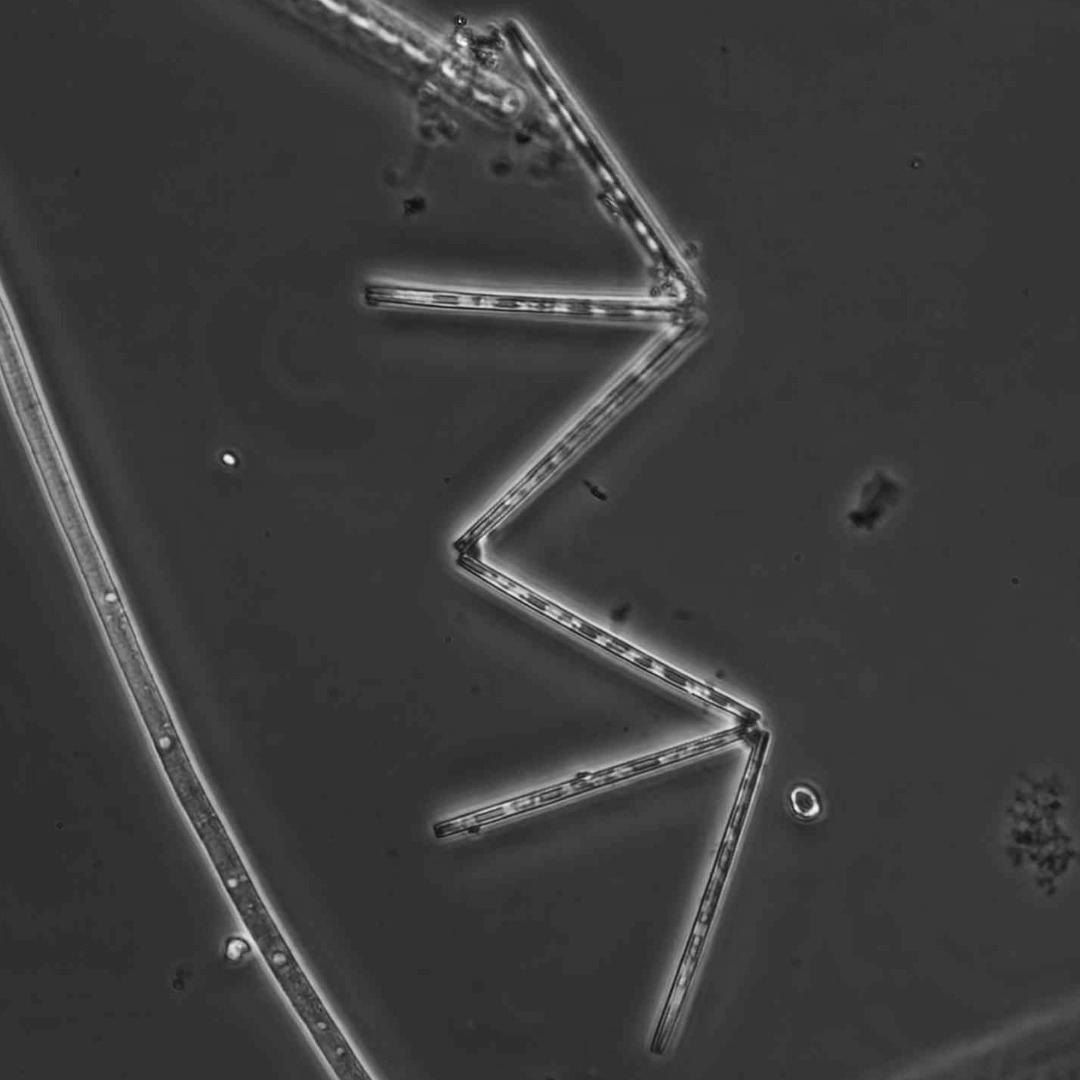thalassionema_nitzschioides: (365, 17, 775, 1055)
